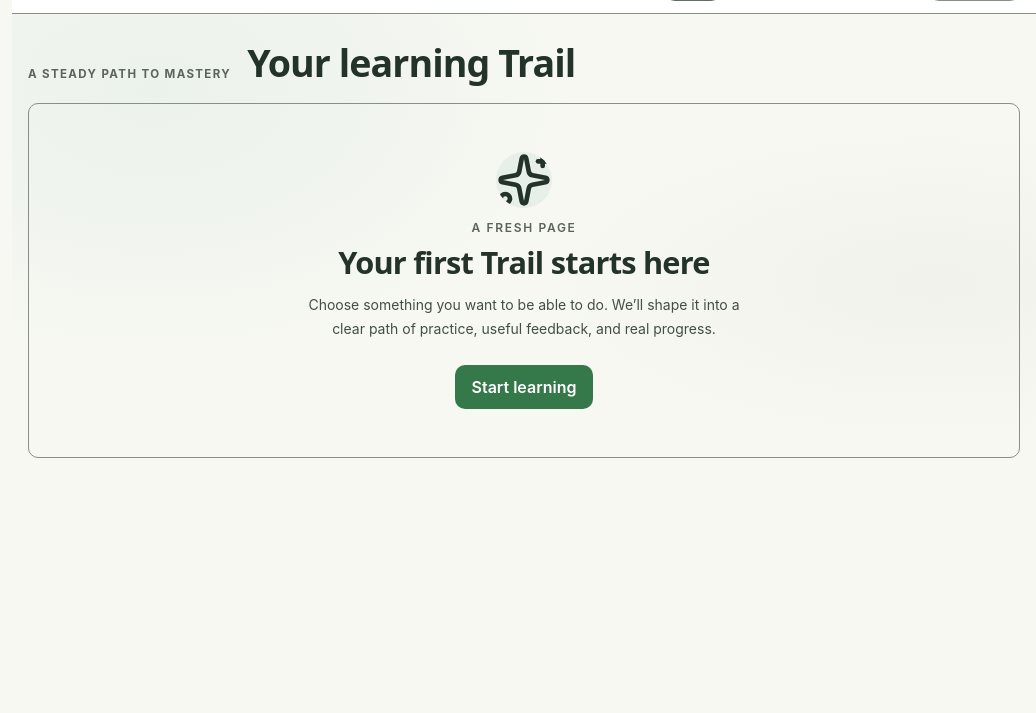
Test case: Dashboard › shows an inviting empty state and a clear first-Track action
Expected: the heading "Your first Trail starts here" is shown, [338,244,710,281]
Step 1. Click the link "Start learning" → (524, 387), box [454,365,593,409]
(page scrolled)
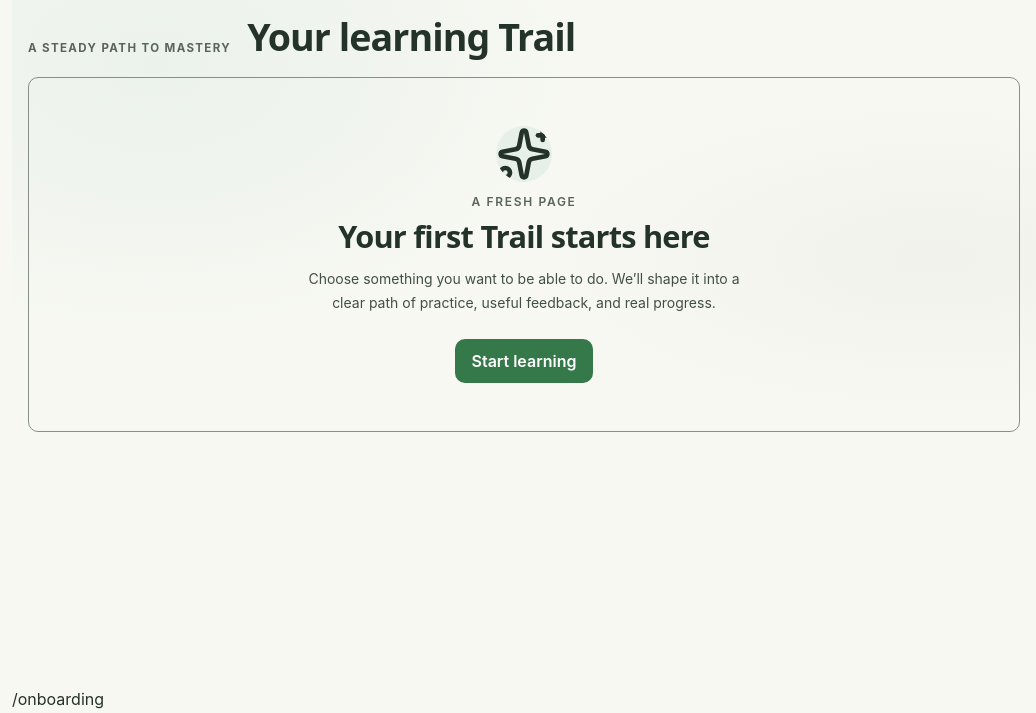
Expected: the text with test id "current-location" reads "/onboarding", [12,689,104,709]
